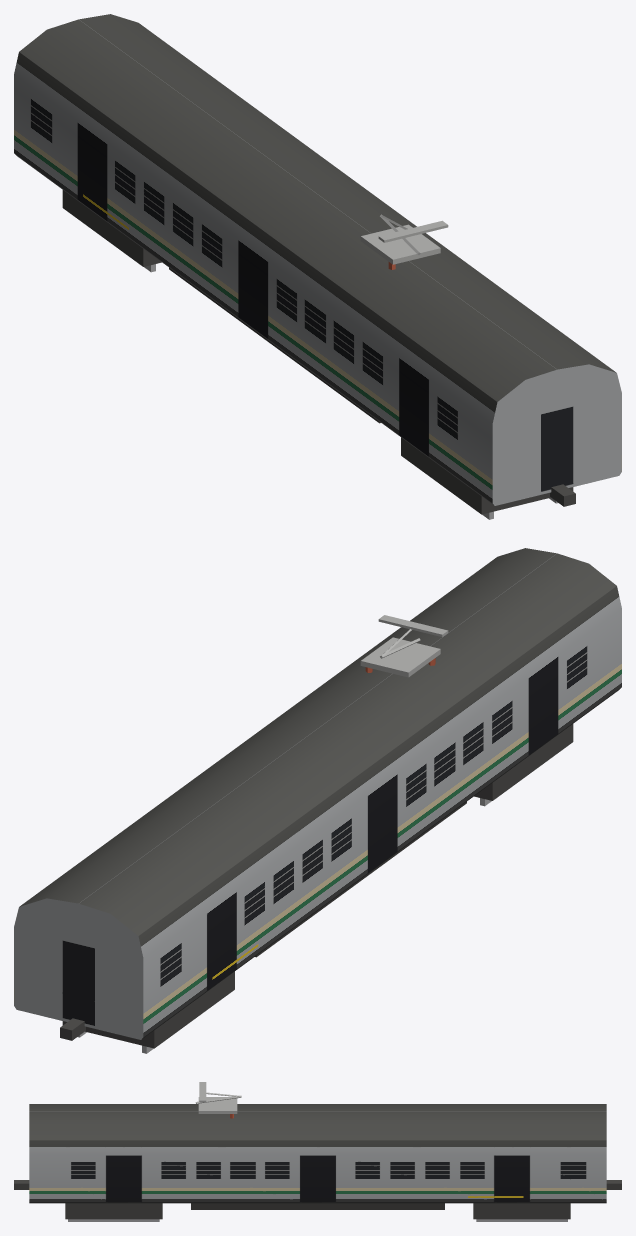
The model's file is emu_motor_lod1.glb.
3 views of the same model, one above another, from view 1: azimuth 30°, elevation 25°; view 2: azimuth 150°, elevation 25°; view 3: azimuth 270°, elevation 25° (orthographic). The views are drawn at different scales.
Visible parts, largest first — view 1: body, pantograph; view 2: body, pantograph; view 3: body, pantograph.
Boxes of the visible parts, <box> form: body: <box>14,14,621,519</box>; pantograph: <box>360,214,448,269</box>; body: <box>14,548,621,1053</box>; pantograph: <box>360,615,448,677</box>; body: <box>14,1104,621,1221</box>; pantograph: <box>195,1082,241,1118</box>.
Bounding box in the file's own units: 3.25 × 4.77 × 21.9.
Materials: 2 (2 with a texture image).
